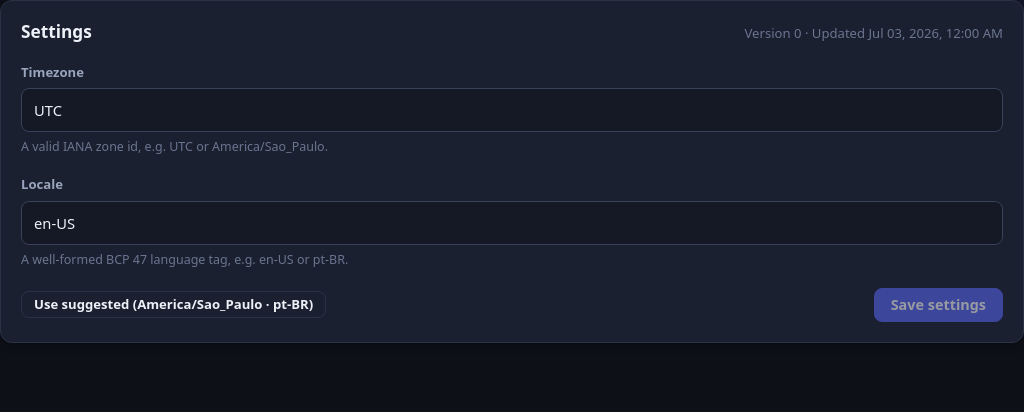
Test: SettingsTab conflict handling › shows a conflict message and reloads the latest settings on 409
Replace the text in the field labelled "Timezone" with "Europe/Paris" at (512, 110), box [21, 88, 1003, 132]
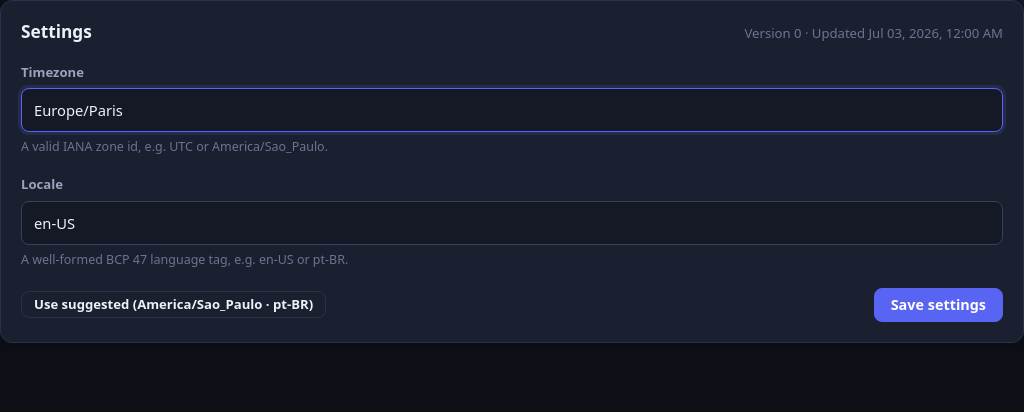
Click the button "Save settings" at (938, 305), box [874, 288, 1003, 322]
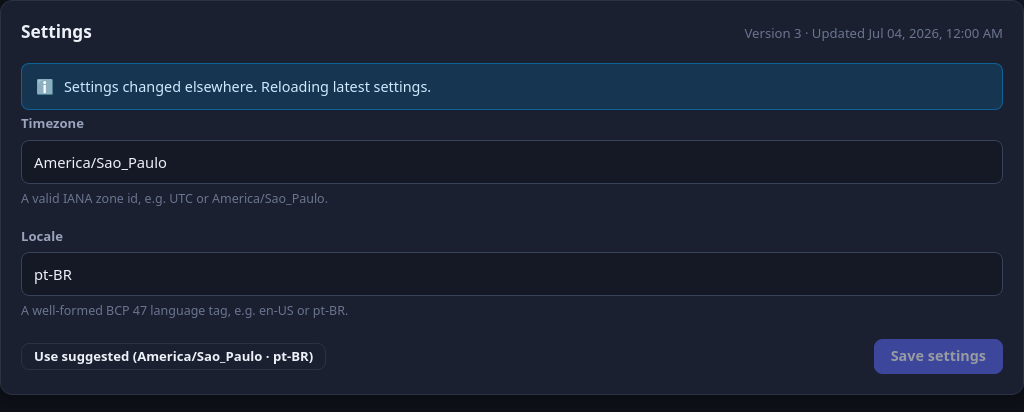
Check: the field showing "America/Sao_Paulo" is shown, box [21, 140, 1003, 184]
Check: the text "Settings changed elsewhere. Reloading latest settings." is shown, box [64, 76, 431, 97]
Check: the text "Version 3 · Updated Jul 04, 2026, 12:00 AM" is shown, box [744, 24, 1003, 44]
